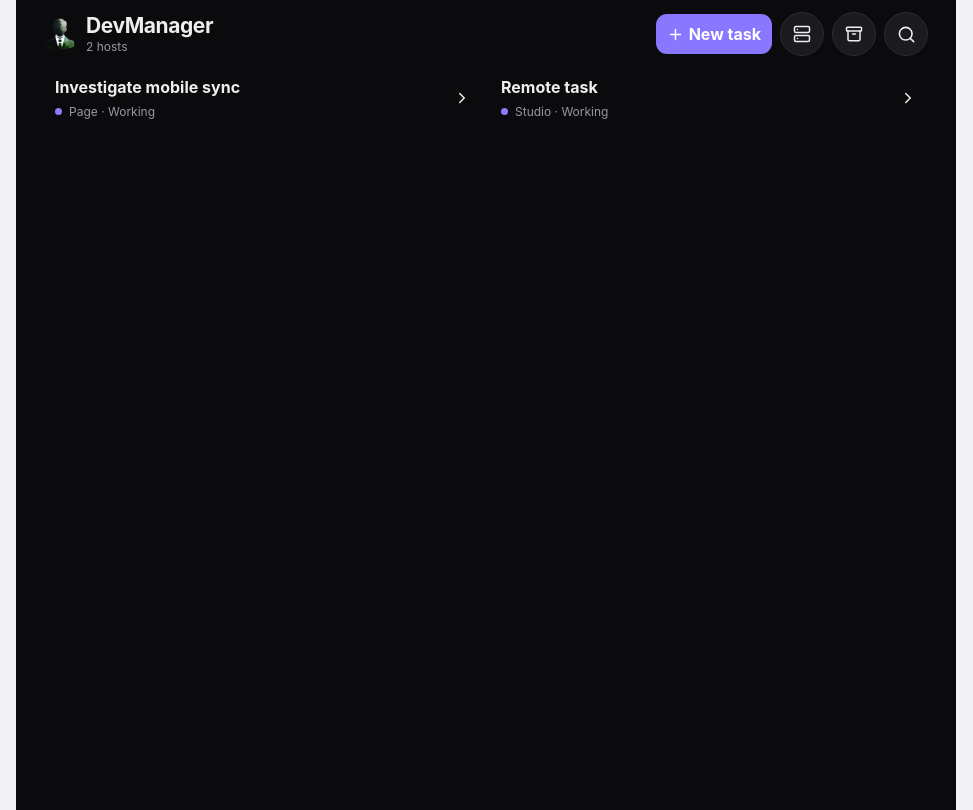
Test: NativeRemoteApp multi-host fleet › keeps Send enabled for live A while offline B has pending outbox
Click the button "Investigate mobile sync Page · Working".
click(148, 87)  # box [44, 62, 482, 134]
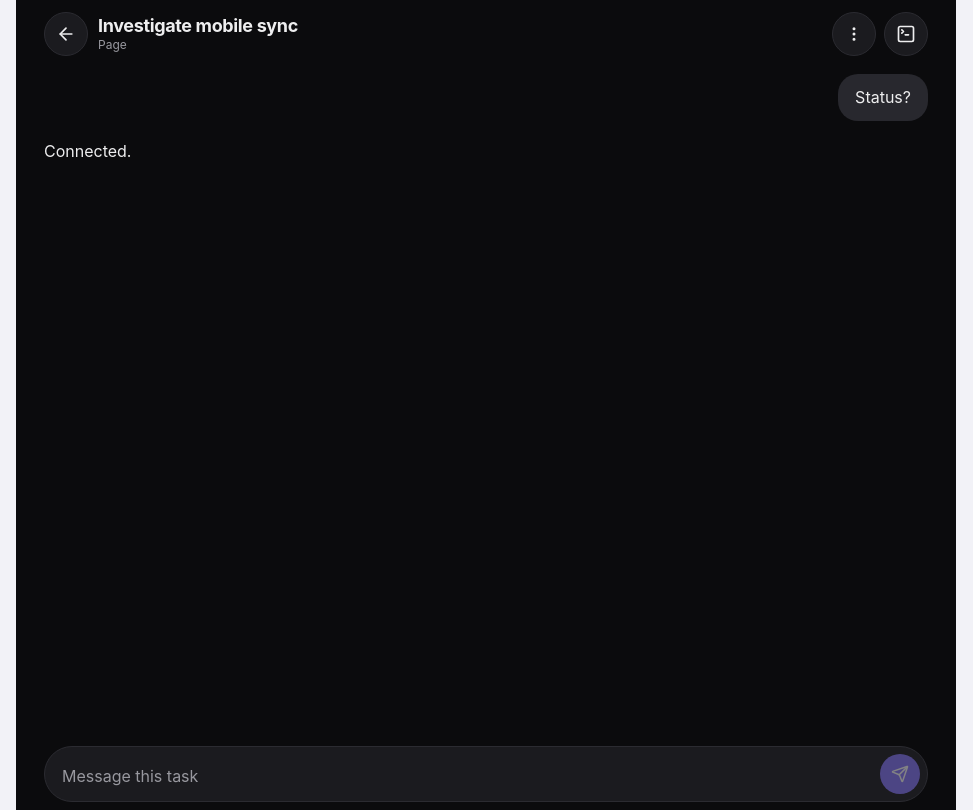
Type "Send on A" into the text box labelled "Message this task".
click(462, 777); type("Send on A")  # box [52, 760, 872, 794]
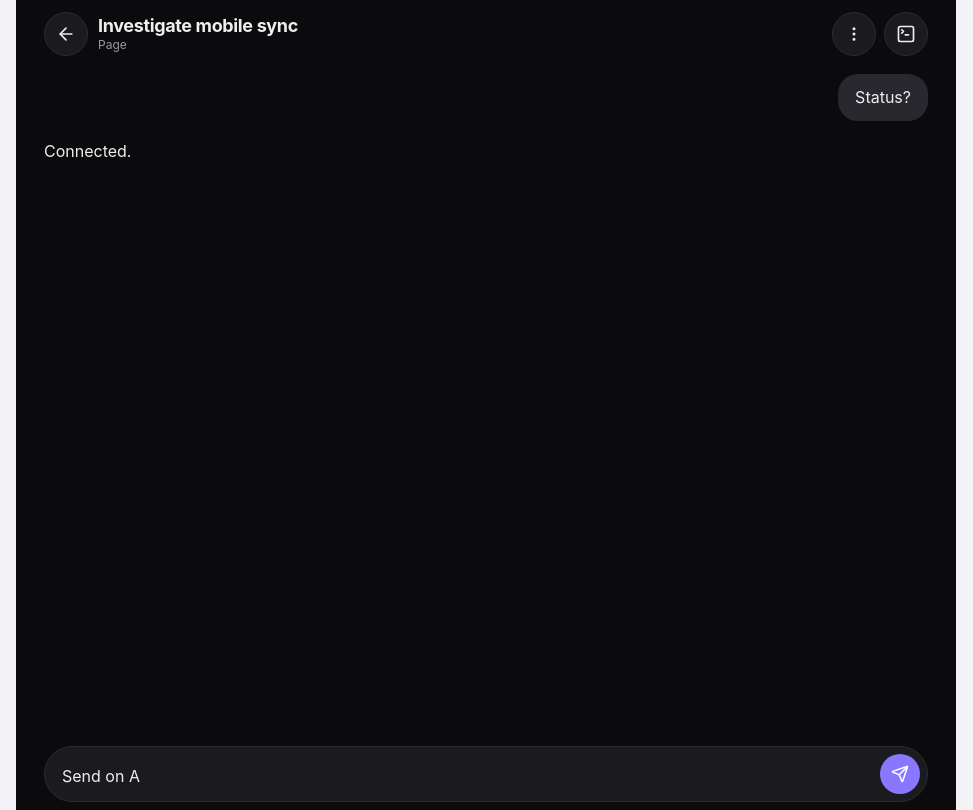
Expected: the button named "send" is enabled, [880, 754, 920, 794]
